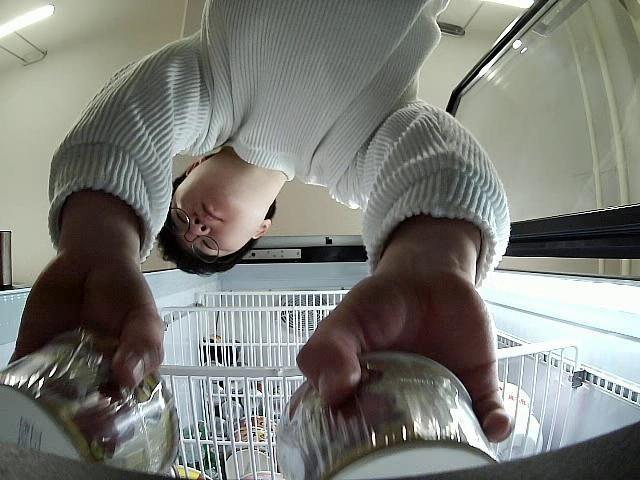04_chapagetti_S: (274, 353, 504, 480), (0, 327, 180, 477)
